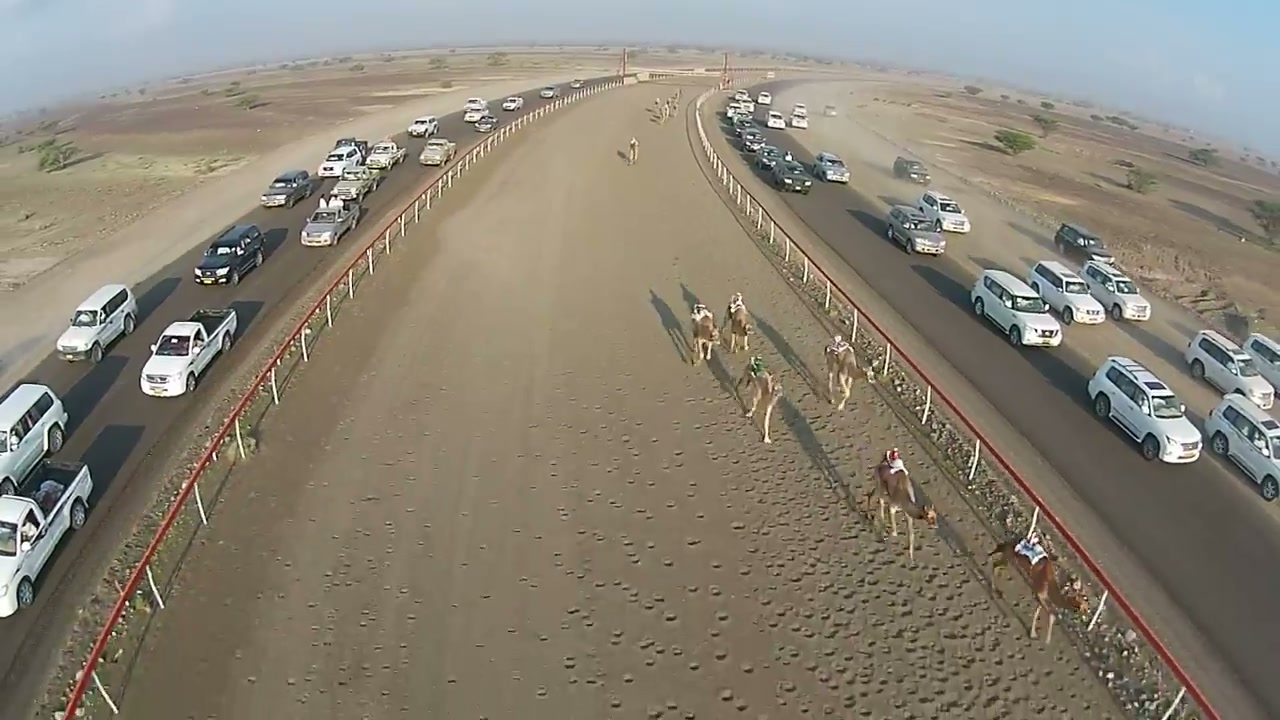animal_footprint: (626, 400, 1079, 719)
